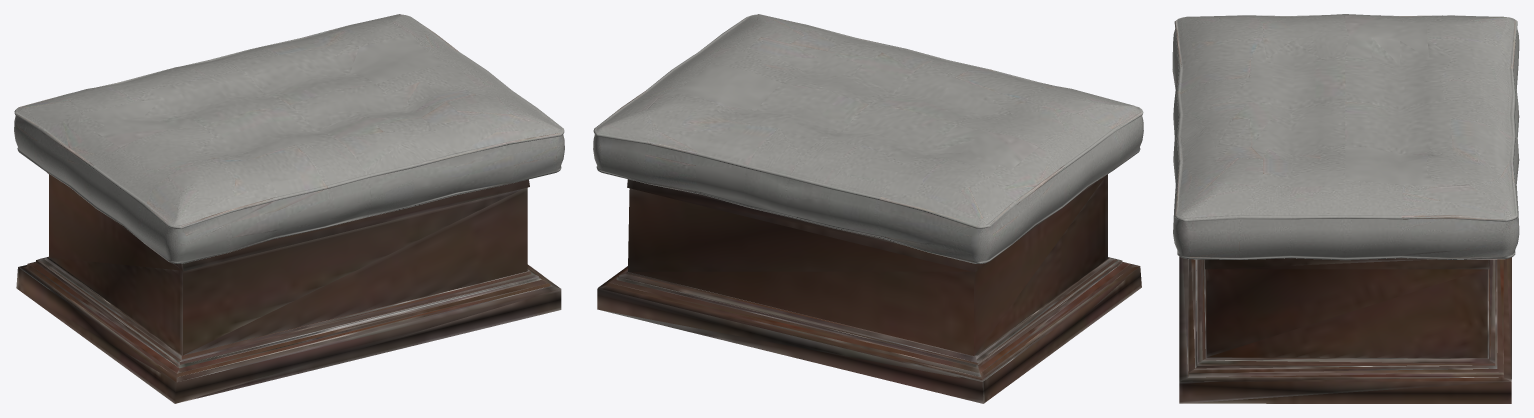
The model's file is mall-try-on-ottoman.glb.
The picture shows the model from 3 angles, left to right: view 1: azimuth 30°, elevation 25°; view 2: azimuth 150°, elevation 25°; view 3: azimuth 270°, elevation 25°; orthographic projection. The views are drawn at different scales.
Visible parts, largest first — view 1: try-on-ottoman; view 2: try-on-ottoman; view 3: try-on-ottoman.
Part boxes in pixels (x1,y1,x2,y2): try-on-ottoman: [14, 14, 564, 403]; try-on-ottoman: [593, 14, 1143, 403]; try-on-ottoman: [1172, 14, 1519, 403].
Bounding box in the file's own units: 0.9 × 0.4222 × 0.6384.
Materials: 1 (1 with a texture image).
